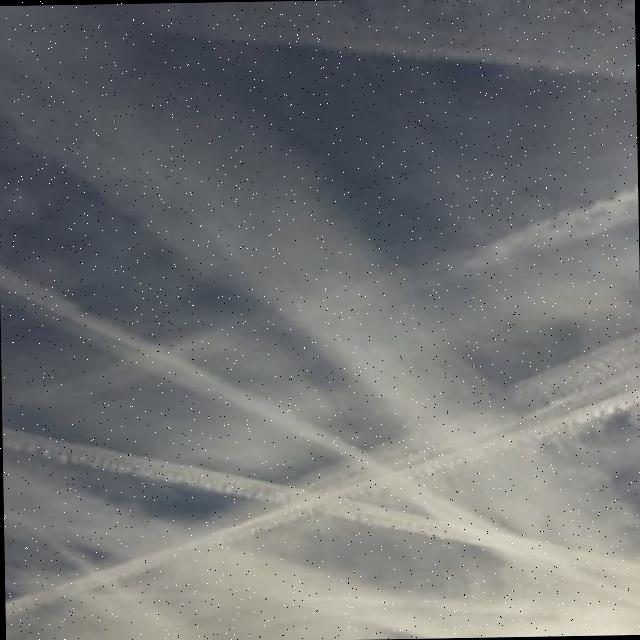Ct: (1, 5, 640, 640)
